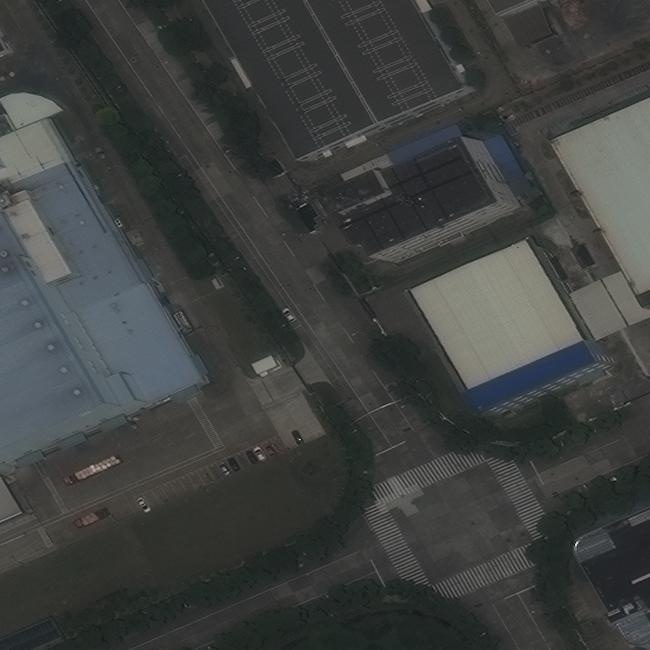parking lot: (135, 436, 291, 513)
